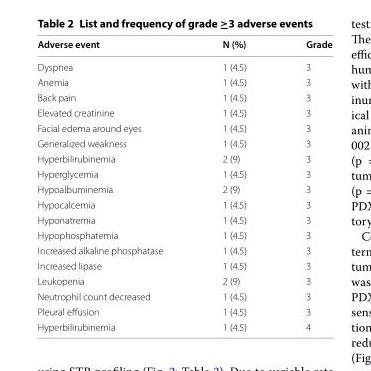table: (36, 37, 331, 332)
table column: (36, 37, 192, 332), (192, 37, 275, 332), (275, 37, 331, 332)
table column header: (36, 37, 331, 55)
table row: (36, 55, 331, 74), (36, 37, 331, 55), (36, 104, 331, 120), (36, 165, 331, 181), (36, 211, 331, 227), (36, 257, 331, 273), (36, 74, 331, 89), (36, 89, 331, 104), (36, 120, 331, 135), (36, 135, 331, 150), (36, 150, 331, 165), (36, 181, 331, 196), (36, 196, 331, 211), (36, 227, 331, 242), (36, 242, 331, 257), (36, 273, 331, 288), (36, 288, 331, 303), (36, 303, 331, 318), (36, 318, 331, 332)
